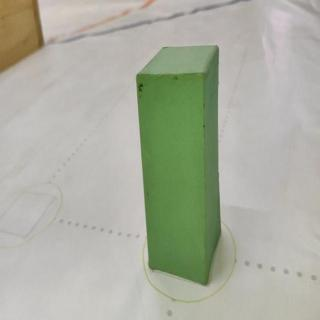greenbox: (135, 45, 220, 286)
